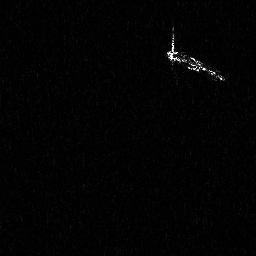ship: (166, 25, 228, 84)
